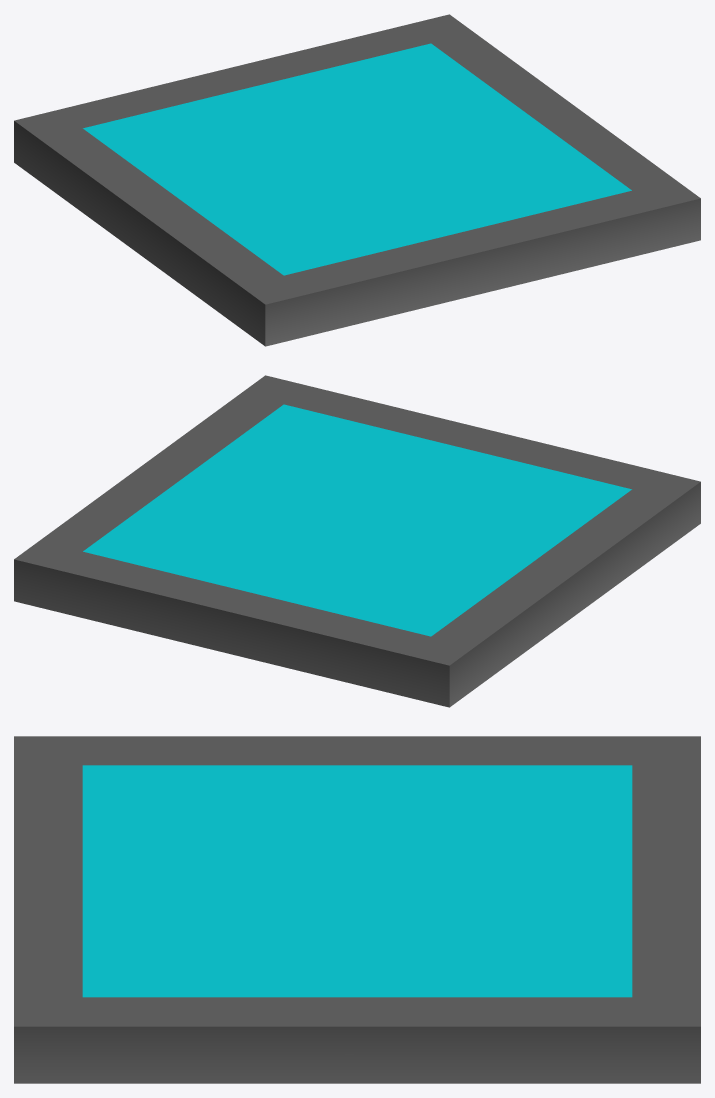
The model's file is plataform.glb.
The picture shows the model from 3 angles, top to bottom: view 1: azimuth 30°, elevation 25°; view 2: azimuth 150°, elevation 25°; view 3: azimuth 270°, elevation 25°; orthographic projection. The views are drawn at different scales.
Visible parts, largest first — view 1: Cube; view 2: Cube; view 3: Cube.
Boxes of the visible parts, x1=… form: Cube: x1=14, y1=14, x2=700, y2=346; Cube: x1=14, y1=375, x2=700, y2=707; Cube: x1=14, y1=736, x2=700, y2=1083.
Bounding box in the file's own units: 4 × 1.22 × 4.
